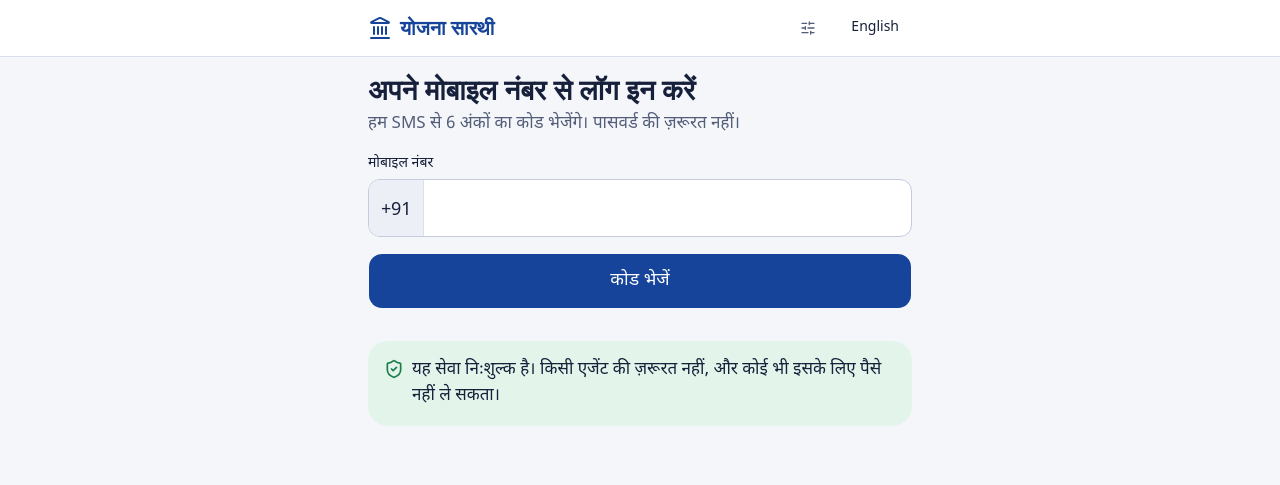
login › rejects an invalid mobile number in the chosen language
In the field labelled "मोबाइल नंबर": {"x": 668, "y": 208} [424,180,911,236], type "12345"
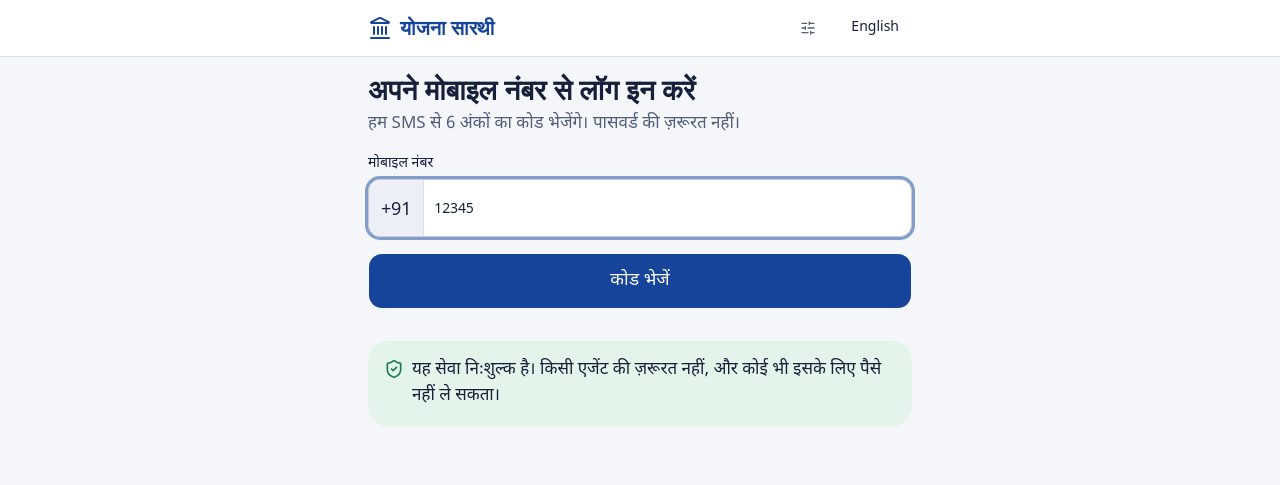
Click the button "कोड भेजें": {"x": 640, "y": 281} [368,253,912,309]
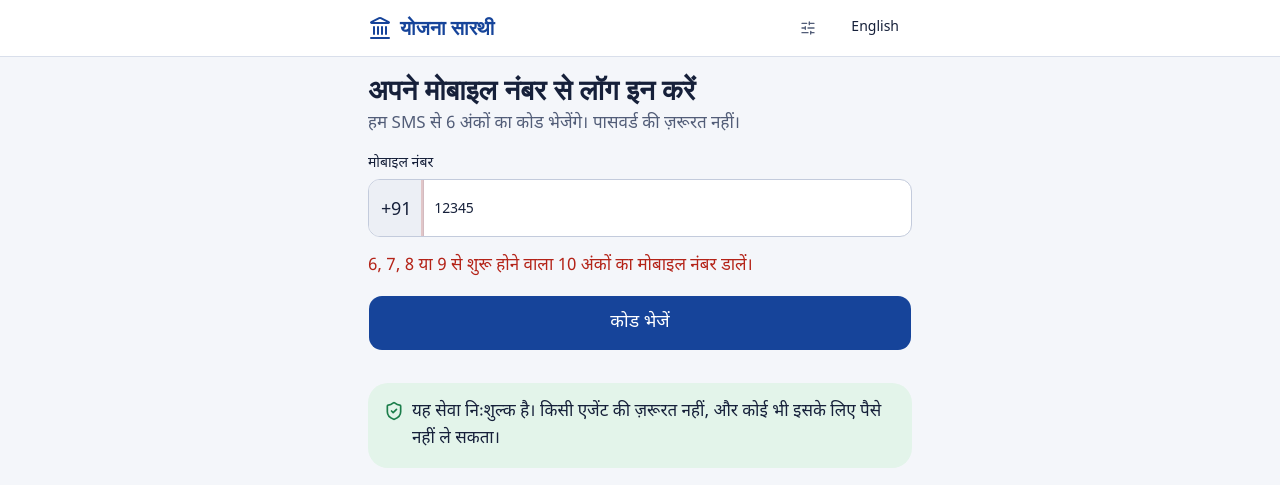
expect the message shows "10 अंकों का मोबाइल नंबर": met, box [368,255,753,277]
